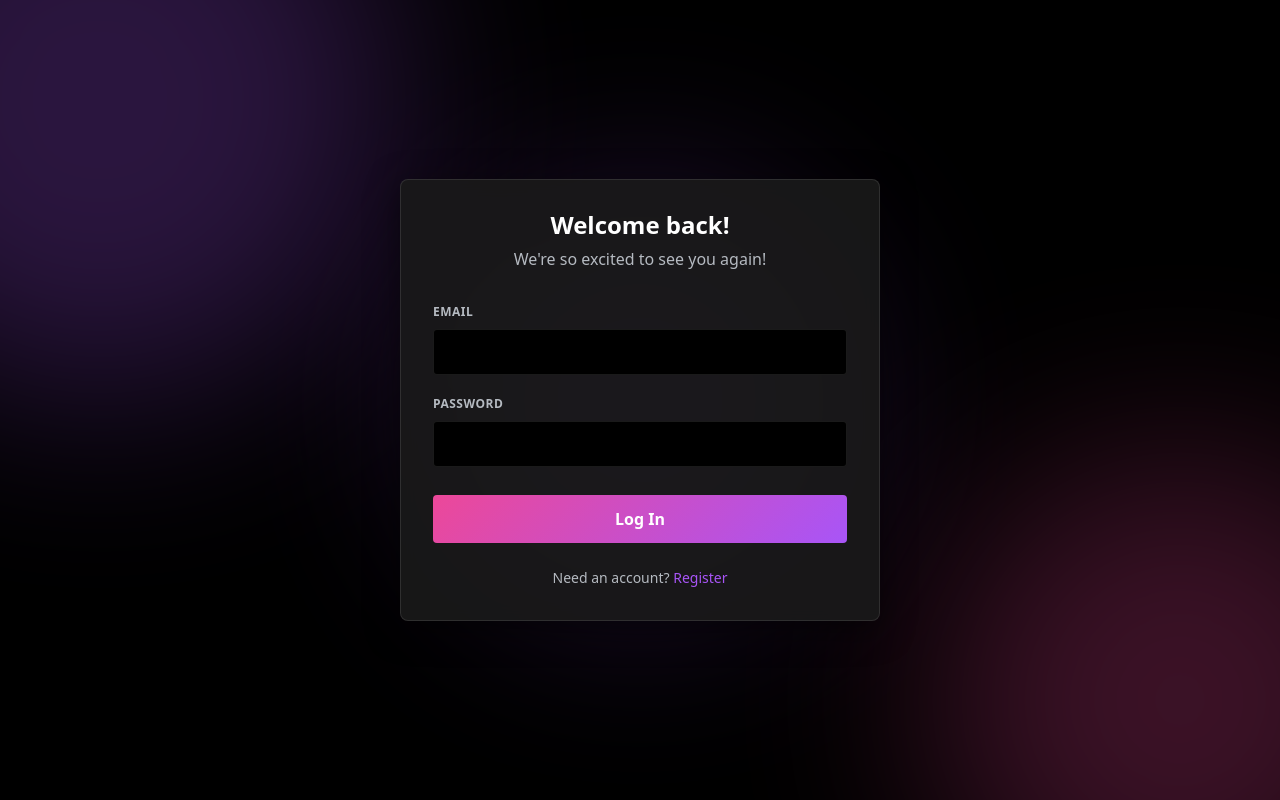
LoginPage › shows error message on login failure
The width and height of the screenshot is (1280, 800).
Type "test@example.com" into the field labelled "Email" at [640, 352], box [433,329,847,375]
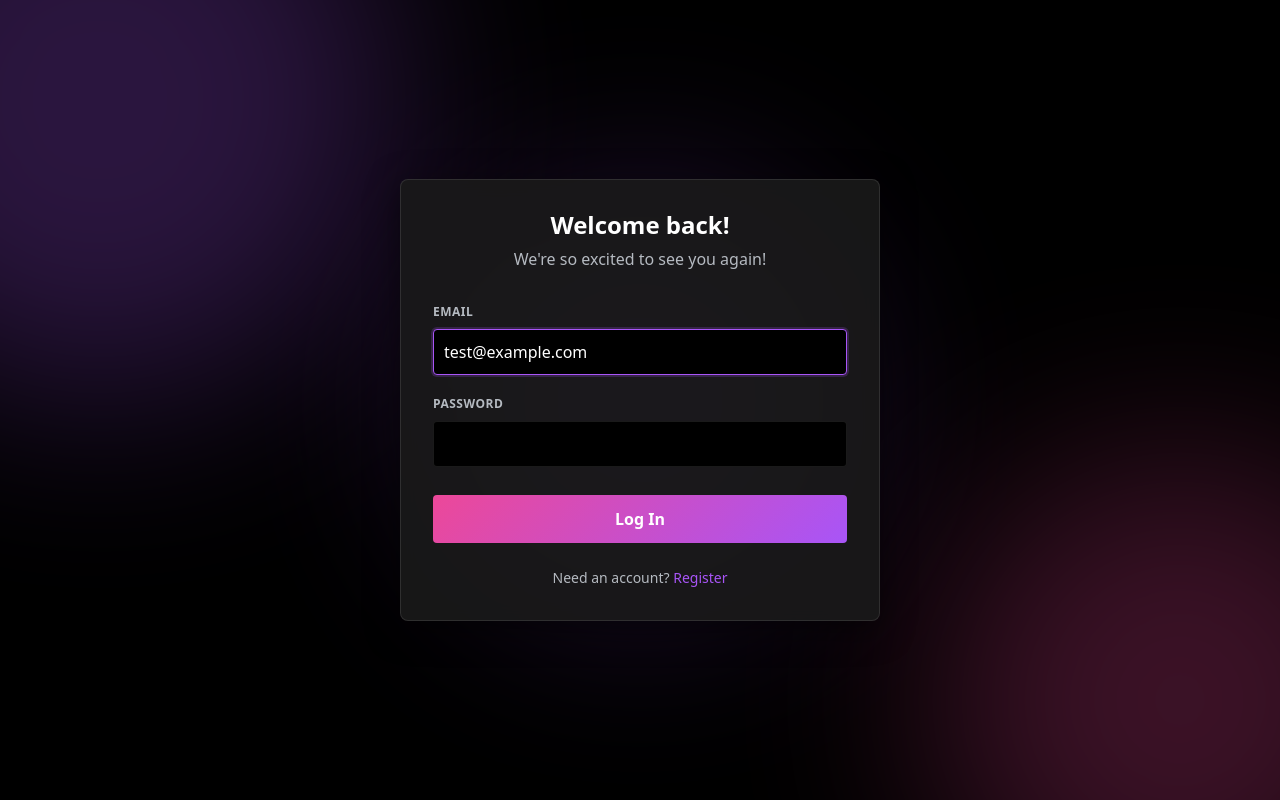
Type "wrong" into the password field labelled "Password" at [640, 444], box [433,421,847,467]
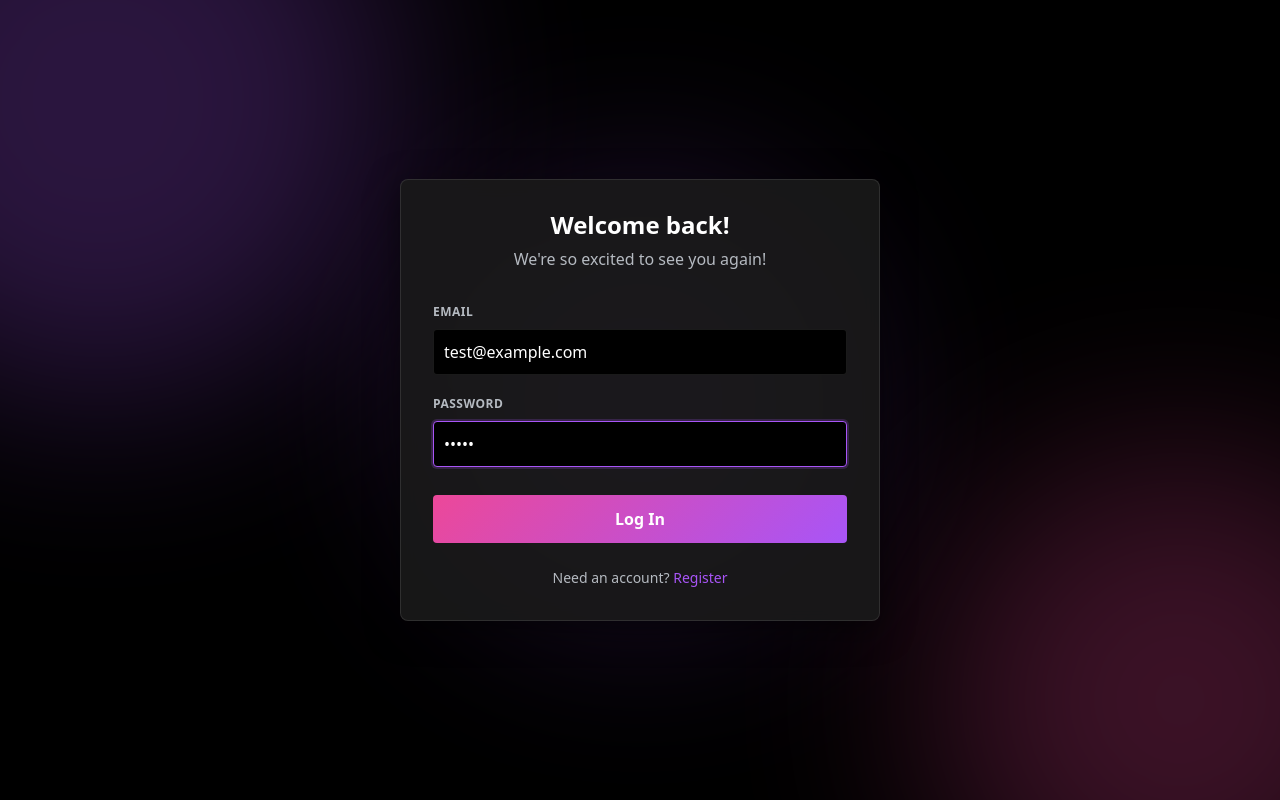
Click the button "Log In" at [640, 519], box [433,495,847,543]
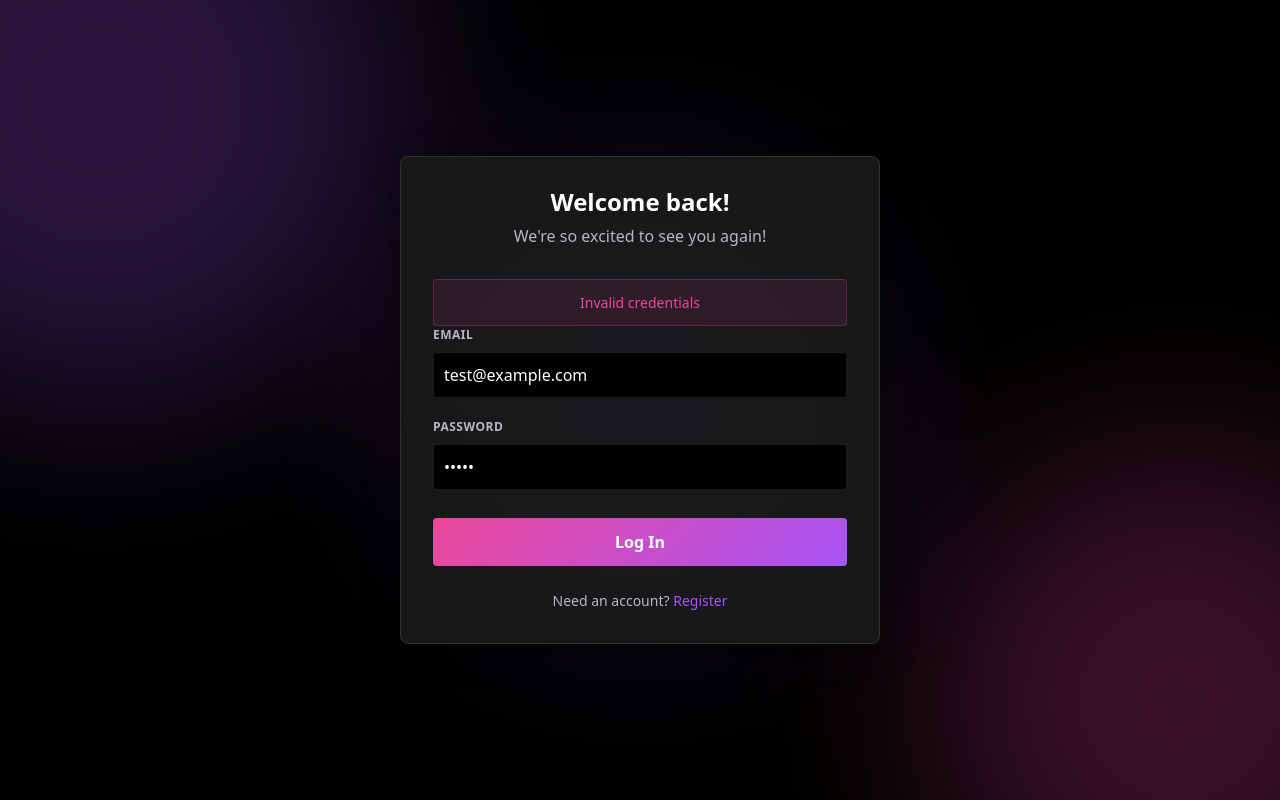
Expected: the text "Invalid credentials" is shown, [433,279,847,326]
